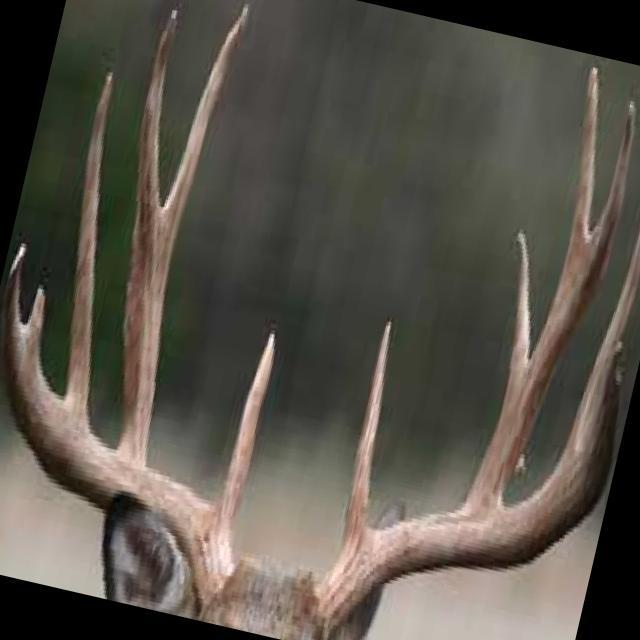E1: (161, 0, 251, 294)
E2: (557, 64, 599, 292)
E3: (24, 283, 46, 363)
L-F: (311, 333, 628, 639)
L-G1: (337, 316, 393, 559)
L-G2: (460, 97, 637, 514)
R-F: (2, 242, 233, 607)
R-G1: (215, 329, 275, 546)
R-G2: (117, 7, 177, 465)
R-G3: (62, 72, 114, 430)
